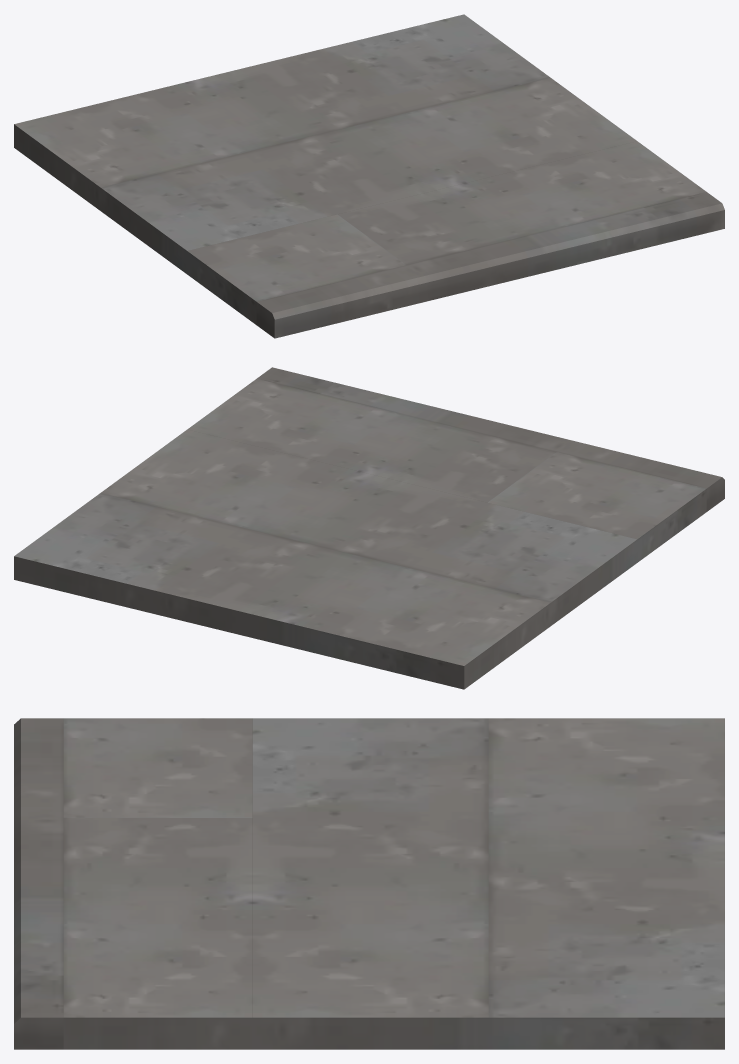
Rendered from Sidewalk_Straight_3m.glb.
The picture shows the model from 3 angles, top to bottom: view 1: azimuth 30°, elevation 25°; view 2: azimuth 150°, elevation 25°; view 3: azimuth 270°, elevation 25°; orthographic projection. The views are drawn at different scales.
Visible parts, largest first — view 1: Sidewalk_Straight_3m; view 2: Sidewalk_Straight_3m; view 3: Sidewalk_Straight_3m.
Part boxes in pixels (left/top/right/bottom): Sidewalk_Straight_3m: left=14, top=14, right=724, bottom=338; Sidewalk_Straight_3m: left=14, top=367, right=724, bottom=689; Sidewalk_Straight_3m: left=14, top=718, right=724, bottom=1049.
Size of the model in its own units: 3 by 0.1499 by 3.01.
1 material, 1 textured.
